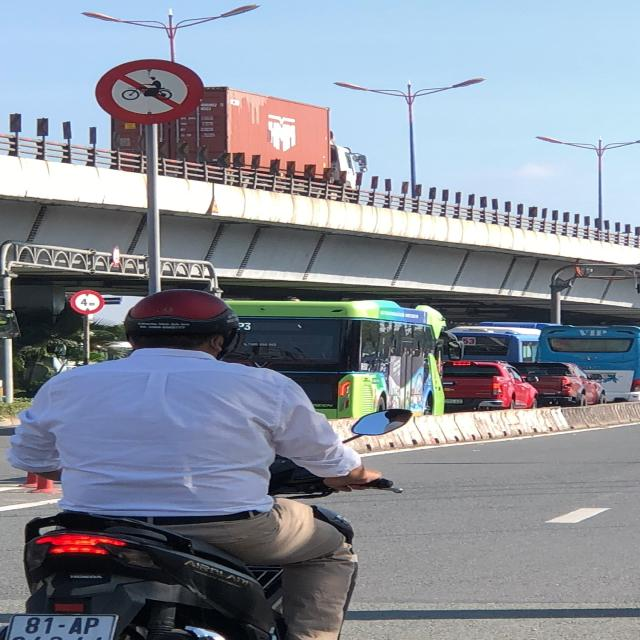Bien bao cam xe may: (85, 53, 216, 131)
